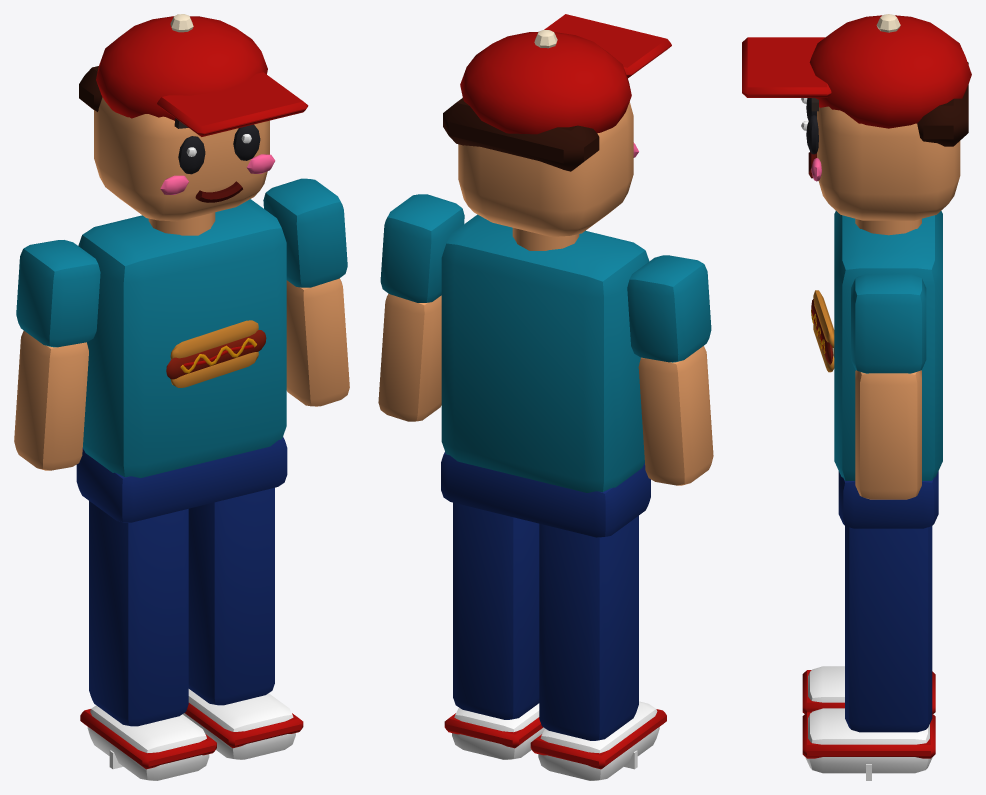
File: CustomerA.fbx
The picture shows the model from 3 angles, left to right: view 1: azimuth 30°, elevation 25°; view 2: azimuth 150°, elevation 25°; view 3: azimuth 270°, elevation 25°; orthographic projection.
Visible parts, largest first — view 1: CustomerA; view 2: CustomerA; view 3: CustomerA.
Part boxes in pixels (<box>): CustomerA: <box>14,14,349,780</box>; CustomerA: <box>378,14,713,780</box>; CustomerA: <box>742,14,971,780</box>.
Size of the model in its own units: 2.4 by 5.31 by 1.52.
